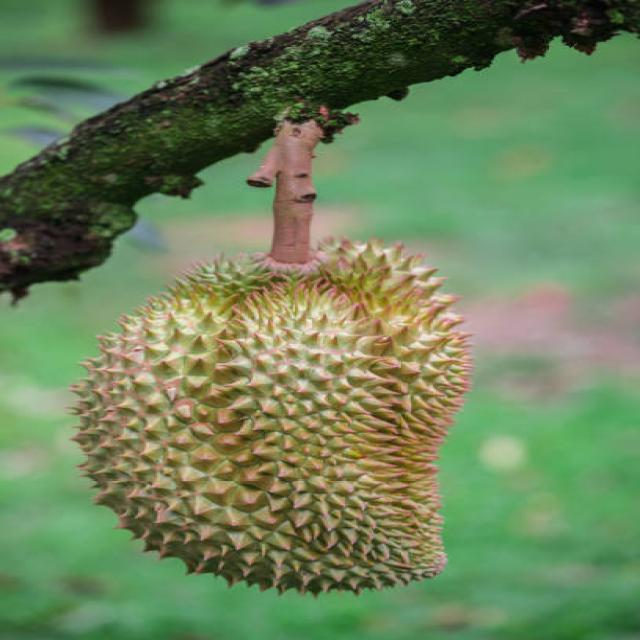mature: (73, 241, 471, 593)
